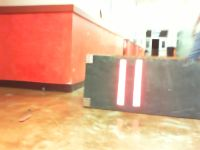switch: (116, 59, 128, 106), (132, 59, 143, 107)
